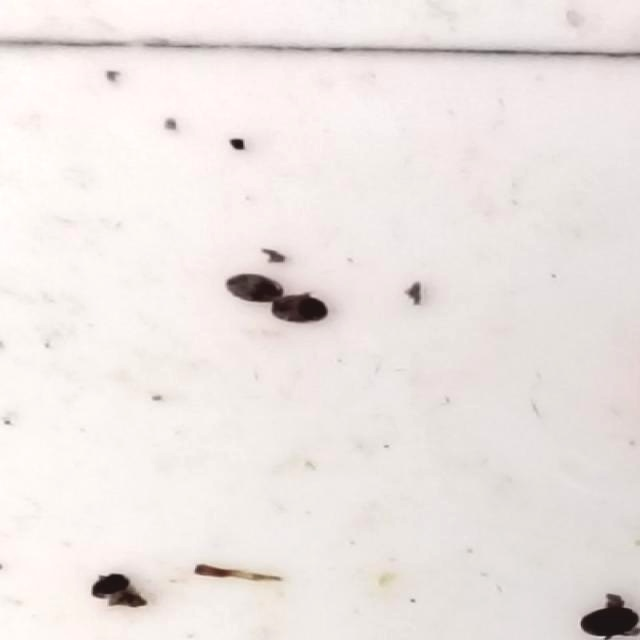varroa: (222, 276, 287, 307), (269, 295, 330, 325), (82, 571, 132, 599)
